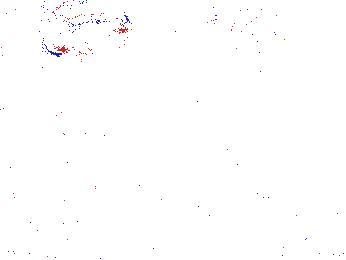moon jellyfish: (123, 1, 218, 79), (229, 1, 323, 57), (42, 1, 129, 55), (1, 6, 52, 93)
